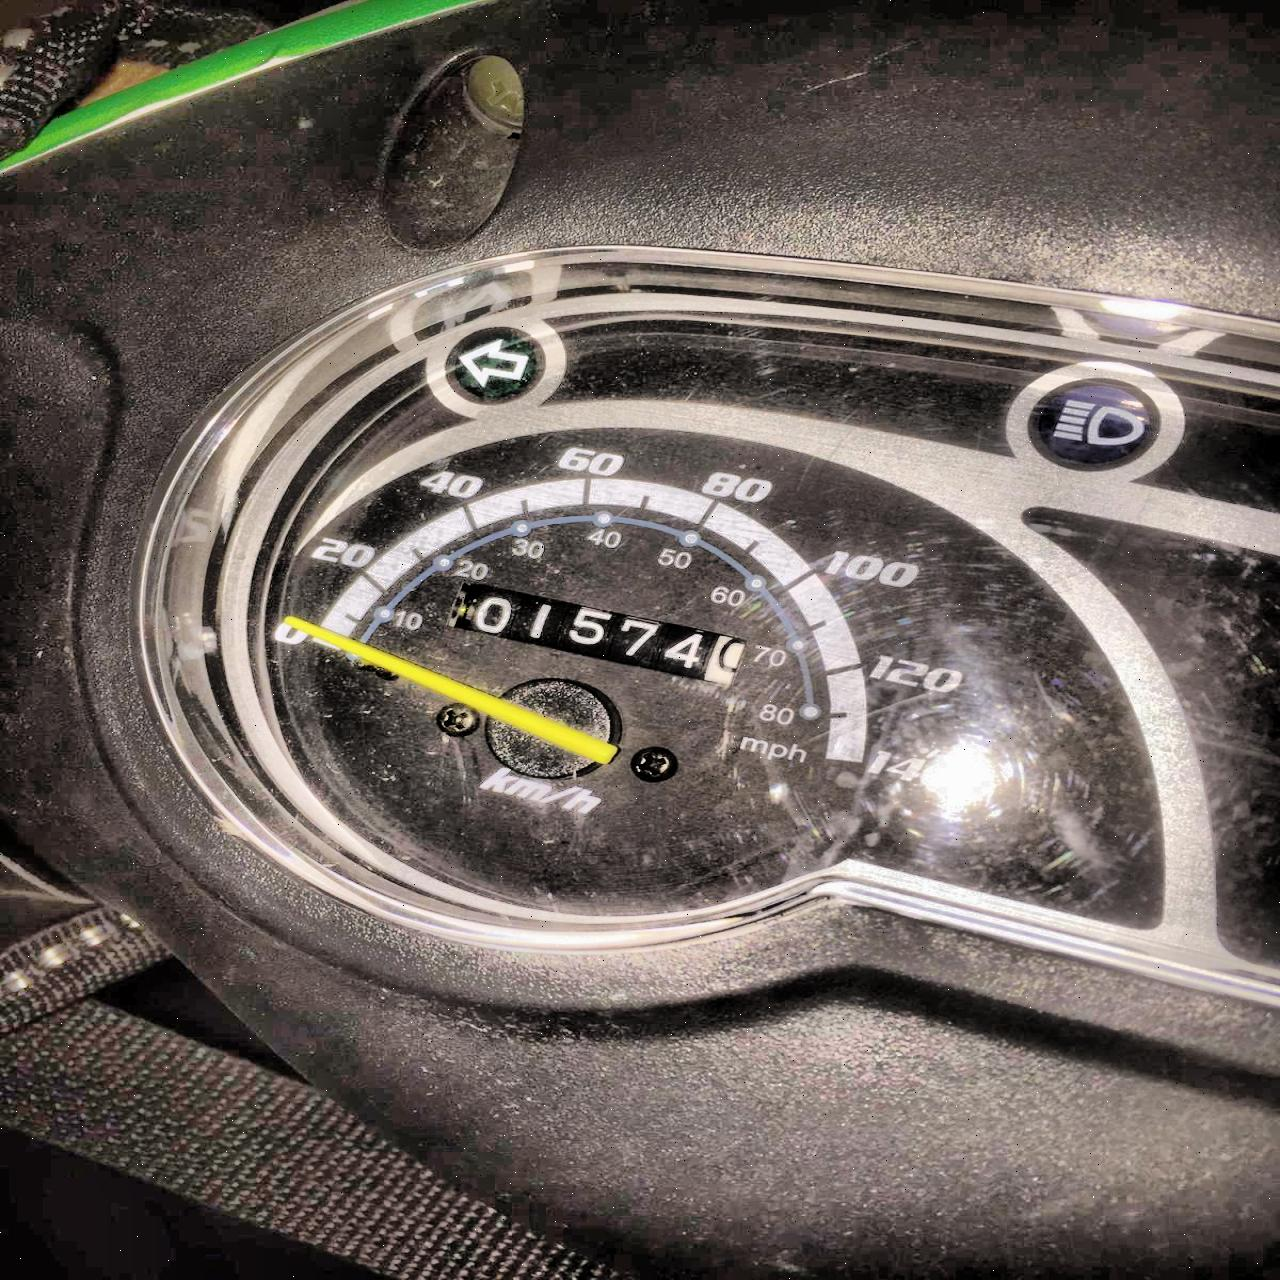0: (475, 595, 511, 634), (715, 634, 748, 672), (728, 587, 744, 606)
1: (526, 602, 552, 639)
4: (662, 626, 703, 668)
5: (567, 601, 611, 648)
6: (708, 586, 728, 604)
7: (620, 617, 660, 655)
odometer: (441, 581, 749, 688)
